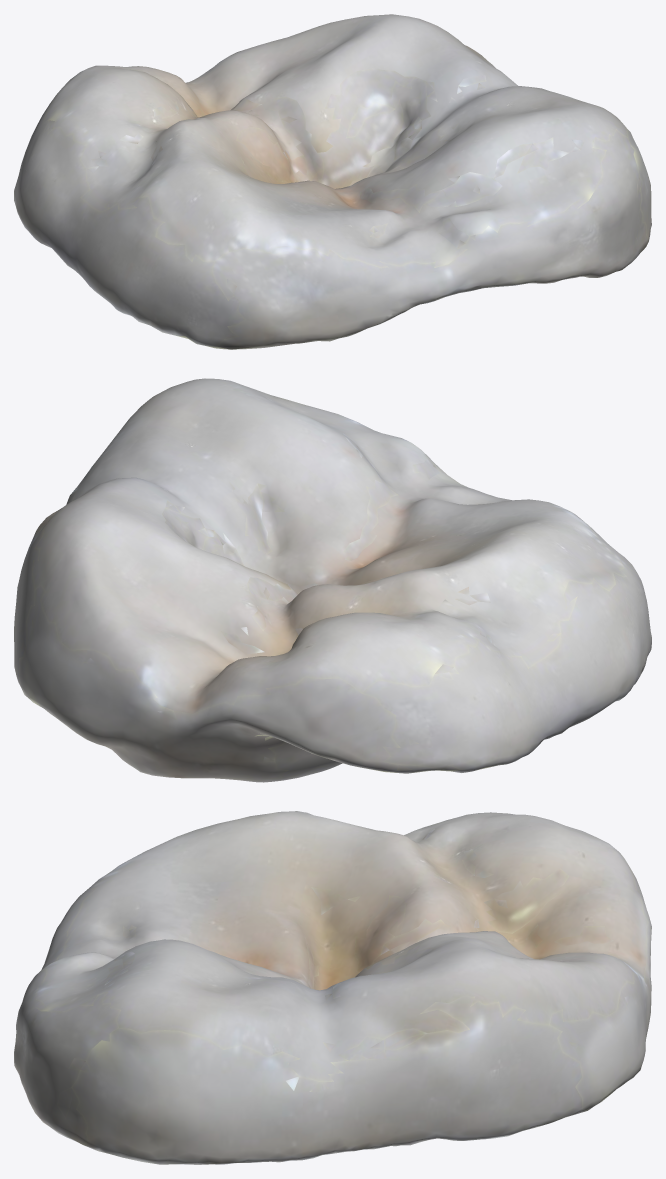
The model's file is INALY ZIRCONIA2.glb.
The picture shows the model from 3 angles, top to bottom: view 1: azimuth 30°, elevation 25°; view 2: azimuth 150°, elevation 25°; view 3: azimuth 270°, elevation 25°; orthographic projection. The views are drawn at different scales.
Parts seen in each view (by area): view 1: inlay zirconia LowerJawScan; view 2: inlay zirconia LowerJawScan; view 3: inlay zirconia LowerJawScan.
Boxes of the visible parts, <box> form: inlay zirconia LowerJawScan: <box>14,14,651,349</box>; inlay zirconia LowerJawScan: <box>14,378,651,782</box>; inlay zirconia LowerJawScan: <box>14,811,651,1164</box>.
Bounding box in the file's own units: 1.17 × 0.3786 × 1.12.
Materials: 1 (1 with a texture image).
